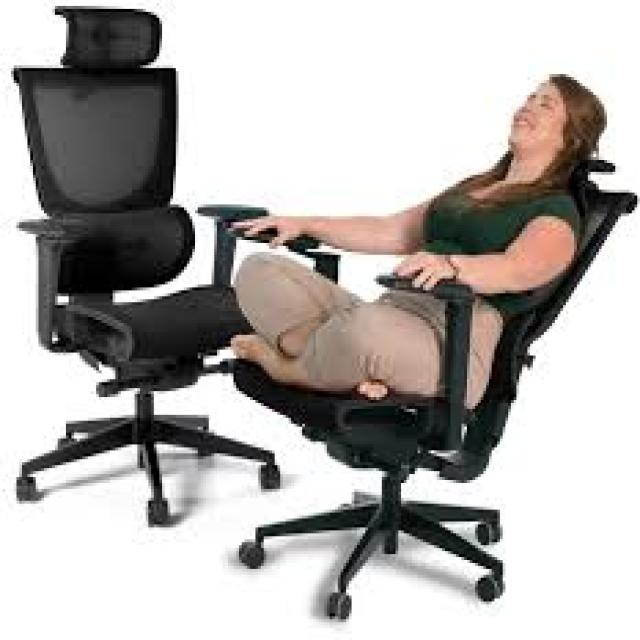chair: (230, 50, 640, 639), (2, 4, 291, 583)
